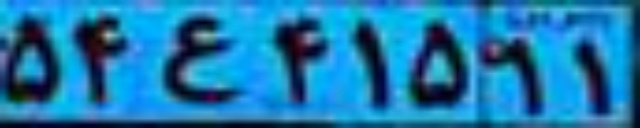1: (352, 22, 390, 106), (571, 40, 612, 114), (506, 37, 544, 115)
4: (268, 22, 336, 104), (70, 17, 128, 105)
5: (403, 23, 468, 104), (1, 16, 60, 103)
ain: (158, 18, 246, 103)
